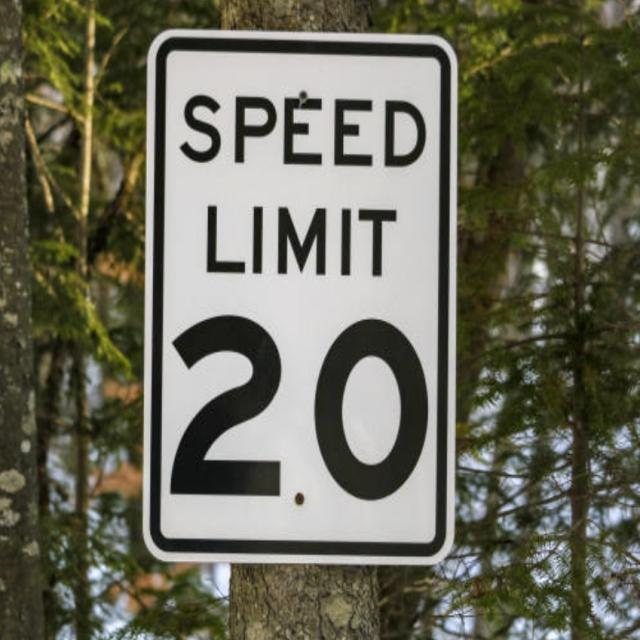speedLimit20: (160, 41, 443, 546)
